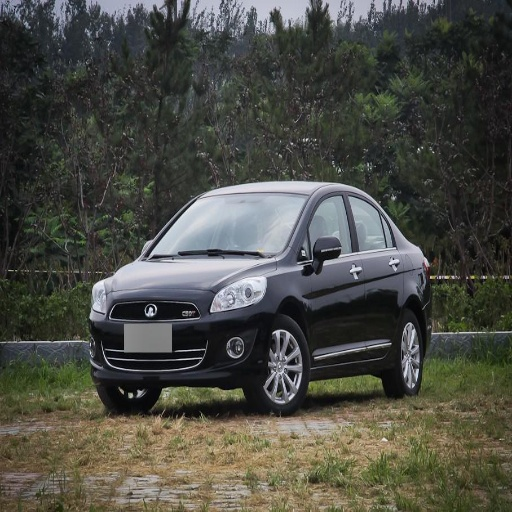front_bumper: (90, 291, 268, 386)
front_glass: (142, 193, 307, 259)
front_left_door: (301, 188, 365, 364)
